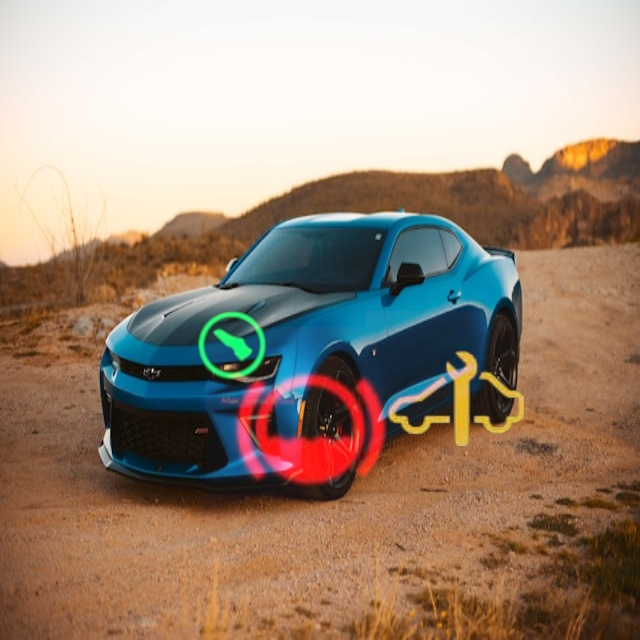symbol: (206, 327, 414, 535), (365, 311, 546, 492), (170, 281, 300, 411)
